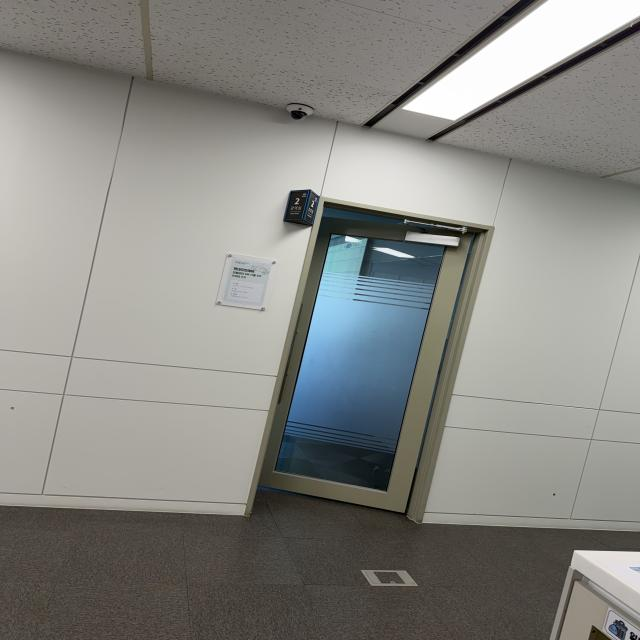room2: (282, 190, 306, 217)
